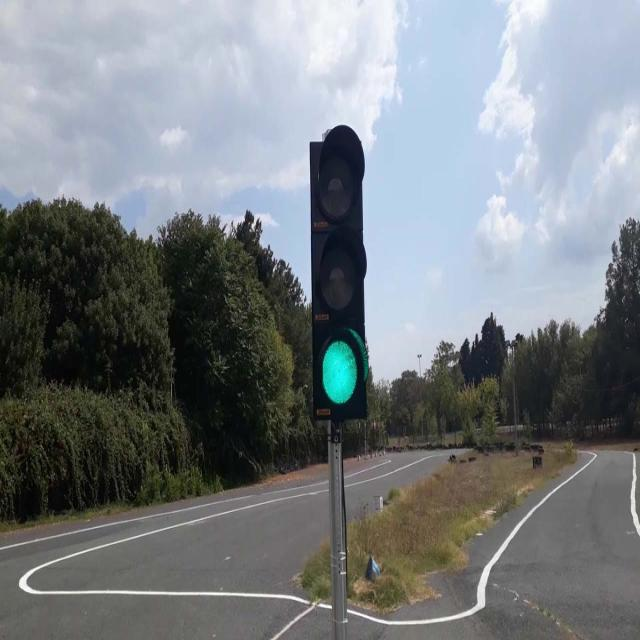yesil: (310, 134, 368, 420)
